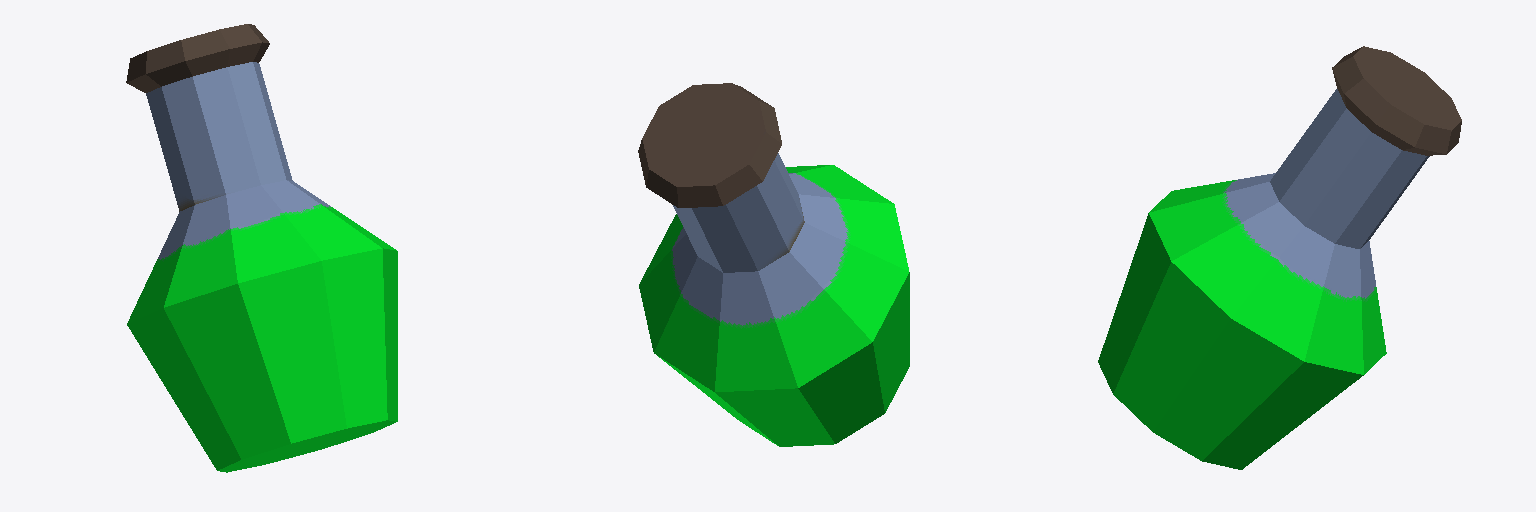
3 views of the same model, side by side, from view 1: azimuth 30°, elevation 25°; view 2: azimuth 150°, elevation 25°; view 3: azimuth 270°, elevation 25° (orthographic).
Parts seen in each view (by area): view 1: STpotion_STpotion_STpotion_Hpotion; view 2: STpotion_STpotion_STpotion_Hpotion; view 3: STpotion_STpotion_STpotion_Hpotion.
Part boxes in pixels (x1,y1,x2,y2): STpotion_STpotion_STpotion_Hpotion: (126, 24, 397, 472); STpotion_STpotion_STpotion_Hpotion: (638, 83, 909, 446); STpotion_STpotion_STpotion_Hpotion: (1098, 46, 1461, 469).
Size of the model in its own units: 1.66 by 2.71 by 2.24.
Materials: 1 (1 with a texture image).